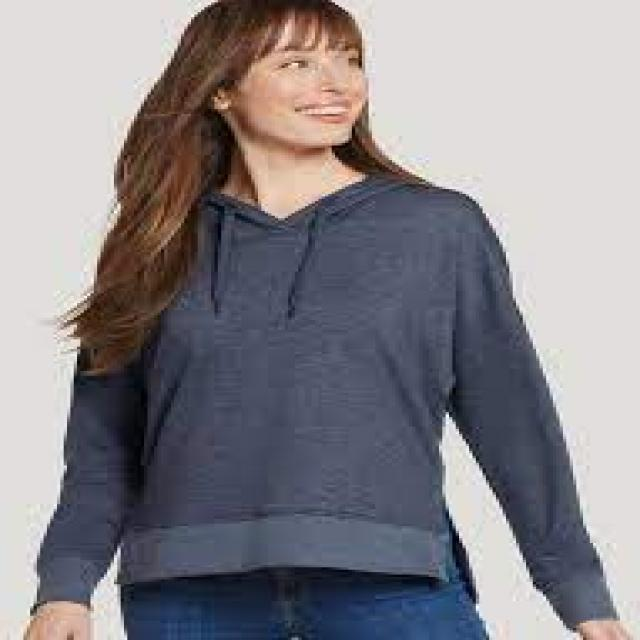plain: (22, 153, 610, 615)
